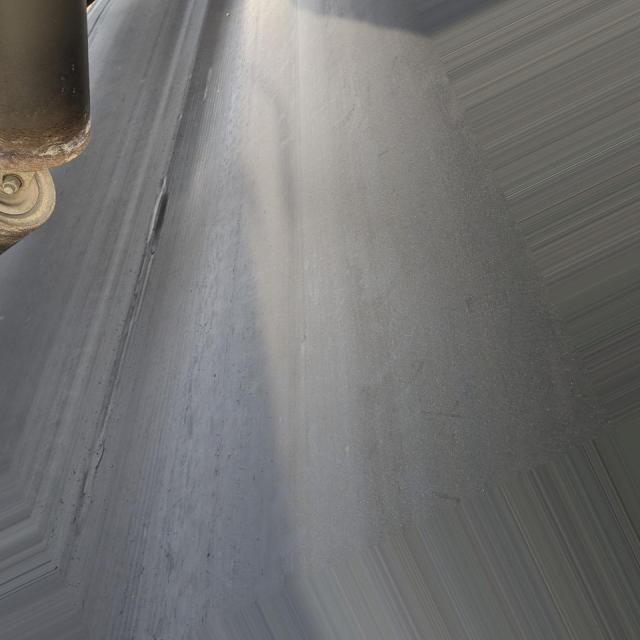Impact Damage: (139, 170, 173, 266)
